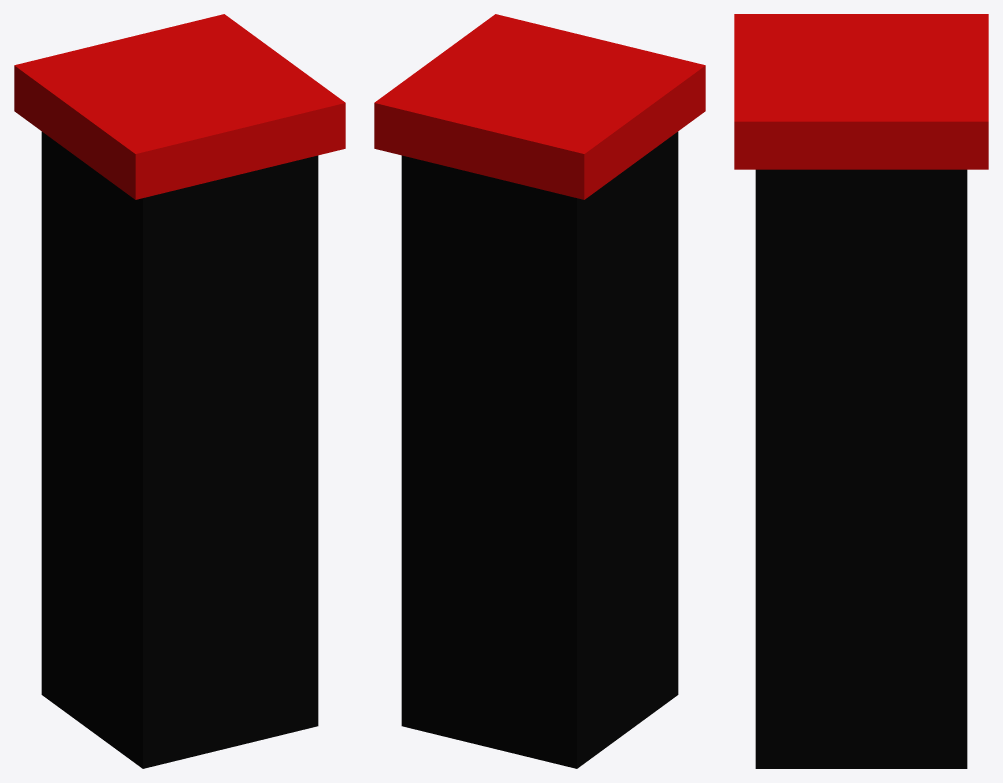
File: chimney.glb
3 renders of one model, left to right at view 1: azimuth 30°, elevation 25°; view 2: azimuth 150°, elevation 25°; view 3: azimuth 270°, elevation 25°, orthographic. The views are drawn at different scales.
Visible parts, largest first — view 1: chimney; view 2: chimney; view 3: chimney.
Part boxes in pixels (x1,y1,x2,y2): chimney: [14, 14, 345, 768]; chimney: [374, 14, 705, 768]; chimney: [734, 14, 988, 768].
Size of the model in its own units: 0.72 by 2.05 by 0.72.
